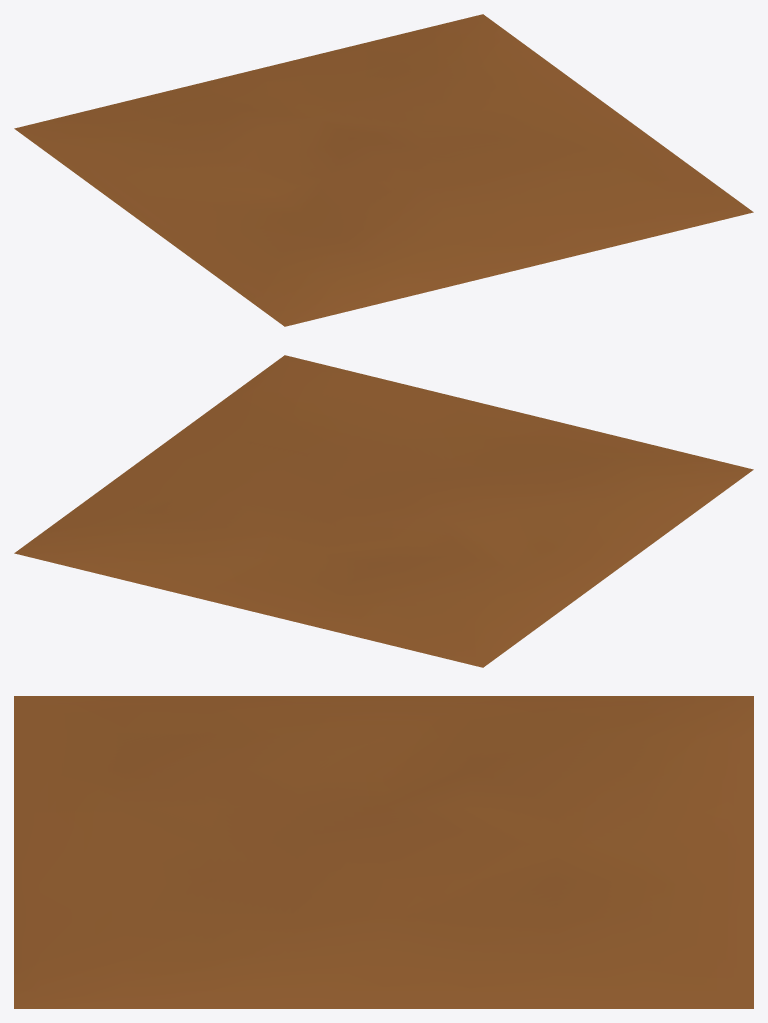
Rendered from Env_Dirt_Large_Dry_01.obj.
3 renders of one model, top to bottom at view 1: azimuth 30°, elevation 25°; view 2: azimuth 150°, elevation 25°; view 3: azimuth 270°, elevation 25°, orthographic. The views are drawn at different scales.
Visible parts, largest first — view 1: Env_Dirt_Large_Dry_01; view 2: Env_Dirt_Large_Dry_01; view 3: Env_Dirt_Large_Dry_01.
Part boxes in pixels (left/top/right/bottom): Env_Dirt_Large_Dry_01: left=14, top=14, right=753, bottom=326; Env_Dirt_Large_Dry_01: left=14, top=355, right=753, bottom=667; Env_Dirt_Large_Dry_01: left=14, top=696, right=753, bottom=1008.
Size of the model in its own units: 2 by 0.0365 by 2.
Materials: 1 (1 with a texture image).
